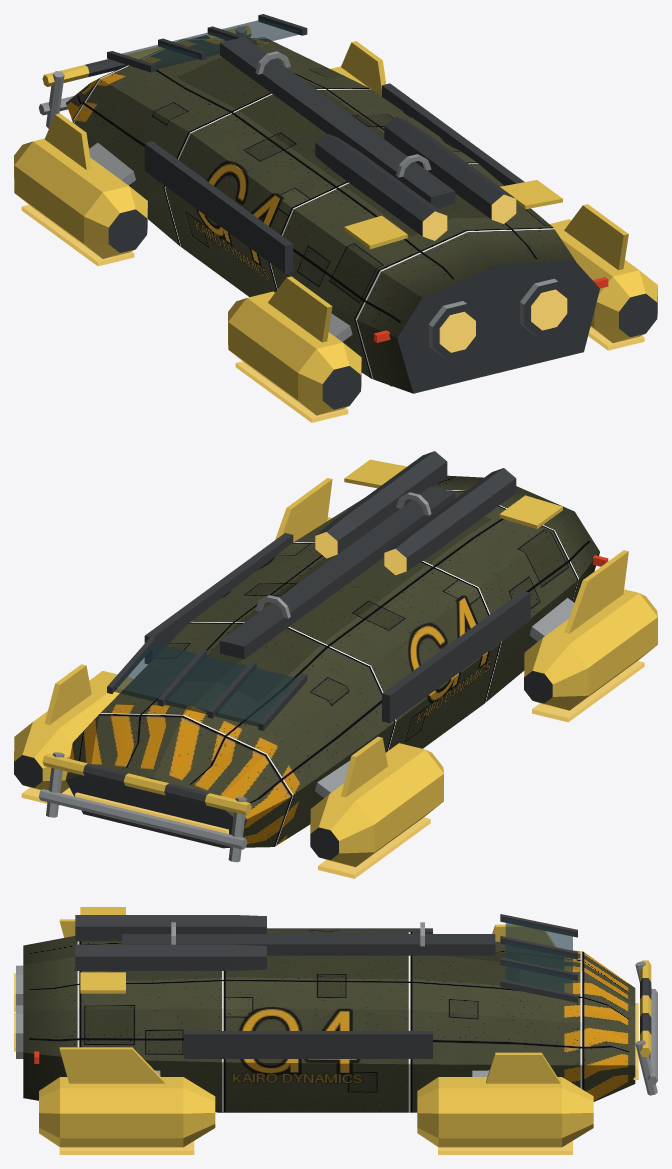
Rendered from bulwark.glb.
The picture shows the model from 3 angles, top to bottom: view 1: azimuth 30°, elevation 25°; view 2: azimuth 150°, elevation 25°; view 3: azimuth 270°, elevation 25°; orthographic projection. The views are drawn at different scales.
Visible parts, largest first — view 1: body_static, elevon_R_body, elevon_L_body, steering_fin_L_body, steering_fin_R_body, airbrake_L_body, airbrake_R_body; view 2: body_static, elevon_L_body, elevon_R_body, steering_fin_L_body, steering_fin_R_body, airbrake_L_body, airbrake_R_body; view 3: body_static, elevon_R_body, steering_fin_R_body, airbrake_R_body, steering_fin_L_body.
Boxes of the visible parts, x1,y1,x2,y2 form: body_static: (14,14,657,422); elevon_R_body: (564,204,628,270); elevon_L_body: (268,276,332,342); steering_fin_L_body: (44,113,91,169); steering_fin_R_body: (341,41,386,96); airbrake_L_body: (344,215,407,249); airbrake_R_body: (500,180,562,209); body_static: (14,451,657,878); elevon_L_body: (564,550,628,633); elevon_R_body: (275,478,332,542); steering_fin_L_body: (341,736,387,797); steering_fin_R_body: (44,664,91,724); airbrake_L_body: (499,495,562,528); airbrake_R_body: (344,459,406,488); body_static: (14,914,657,1154); elevon_R_body: (59,1047,165,1083); steering_fin_R_body: (486,1052,560,1083); airbrake_R_body: (80,972,125,993); steering_fin_L_body: (492,924,555,946).
Size of the model in its own units: 3.55 by 1.68 by 6.21.
Materials: 10 (2 with a texture image).
